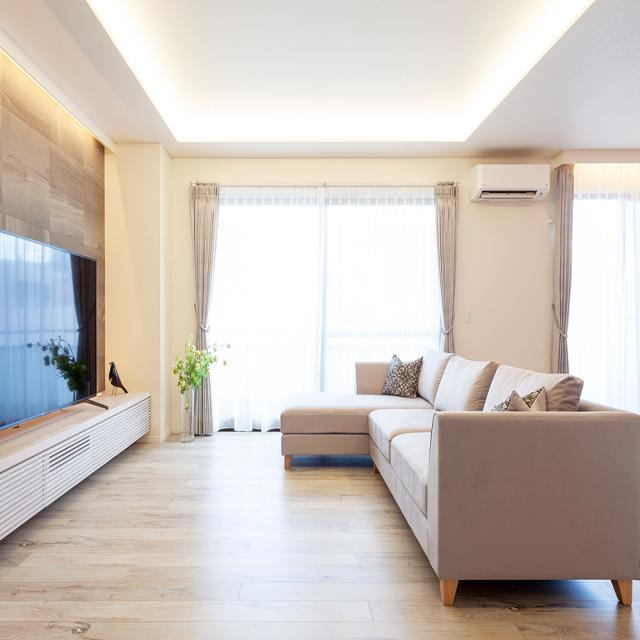white sofa: (356, 349, 624, 593)
